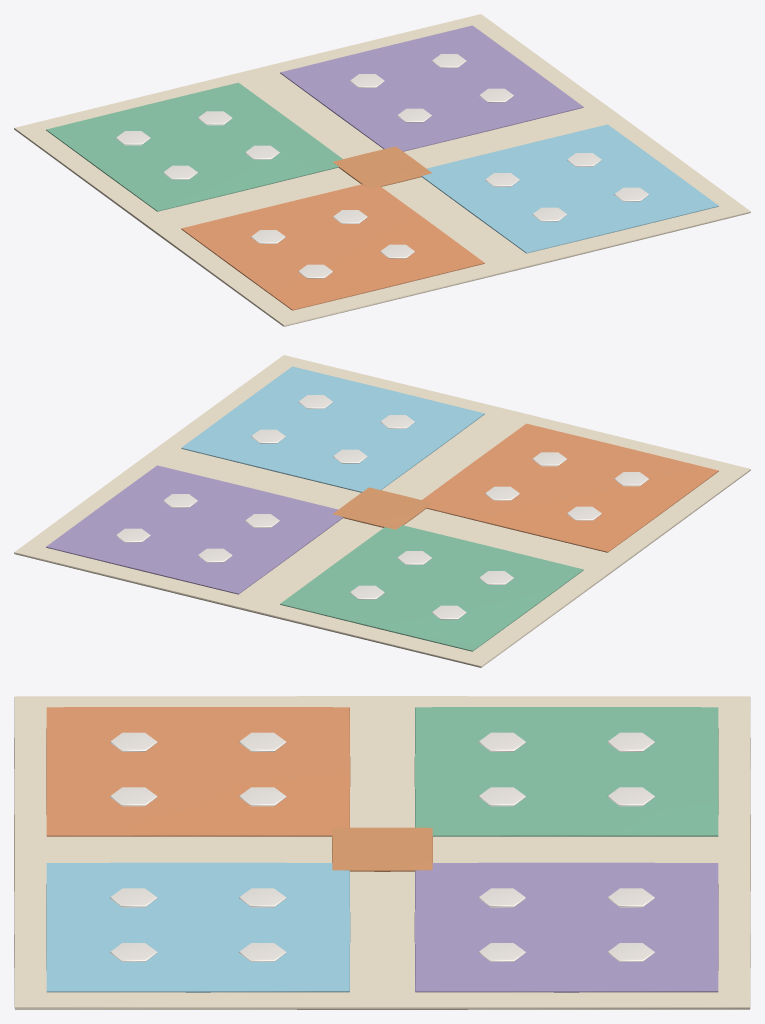
File: ludo-mat.glb
3 views of the same model, one above another, from view 1: azimuth 30°, elevation 25°; view 2: azimuth 150°, elevation 25°; view 3: azimuth 270°, elevation 25° (orthographic). The views are drawn at different scales.
Parts seen in each view (by area): view 1: part (×6); view 2: part (×6); view 3: part (×22).
Boxes of the visible parts, left/top/right/bottom form: part (×6): left=14, top=14, right=750, bottom=326; part (×6): left=14, top=355, right=750, bottom=667; part (×22): left=14, top=696, right=750, bottom=1009.
Bounding box in the file's own units: 4 × 0.0535 × 4.
1 material, 1 textured.
